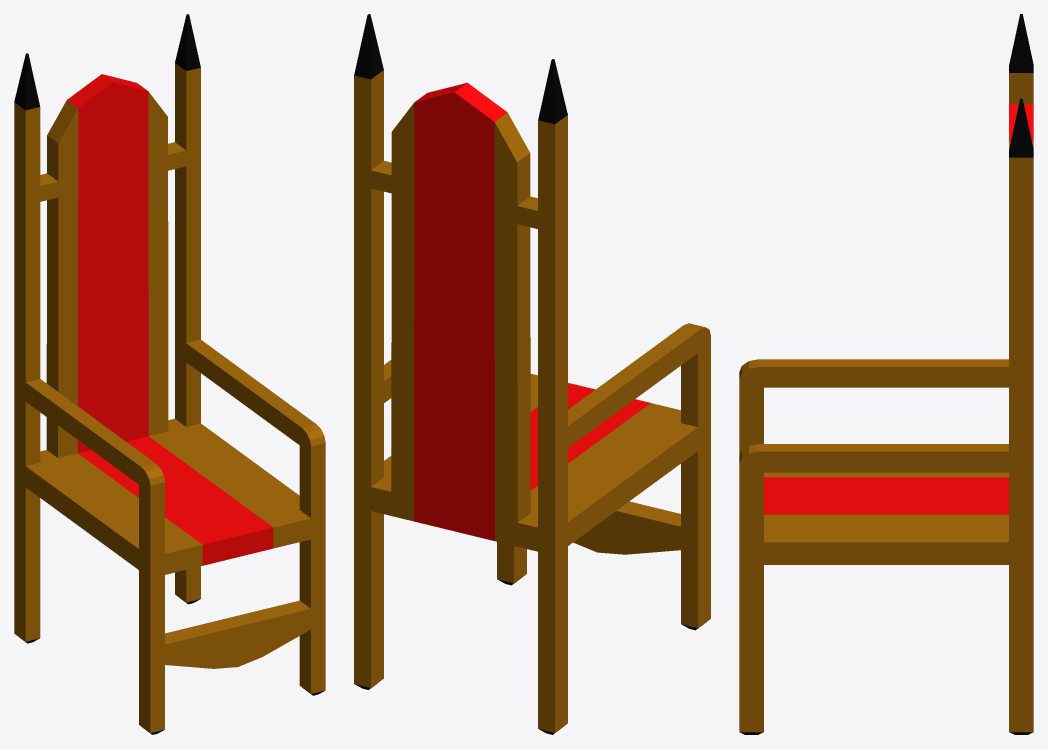
File: Throne_01.fbx
3 renders of one model, left to right at view 1: azimuth 30°, elevation 25°; view 2: azimuth 150°, elevation 25°; view 3: azimuth 270°, elevation 25°, orthographic. The views are drawn at different scales.
Visible parts, largest first — view 1: Throne_01; view 2: Throne_01; view 3: Throne_01.
Part boxes in pixels (<box>): Throne_01: <box>14,14,325,734</box>; Throne_01: <box>354,14,710,734</box>; Throne_01: <box>739,14,1033,734</box>.
Bounding box in the file's own units: 65.37 × 209 × 87.97.
